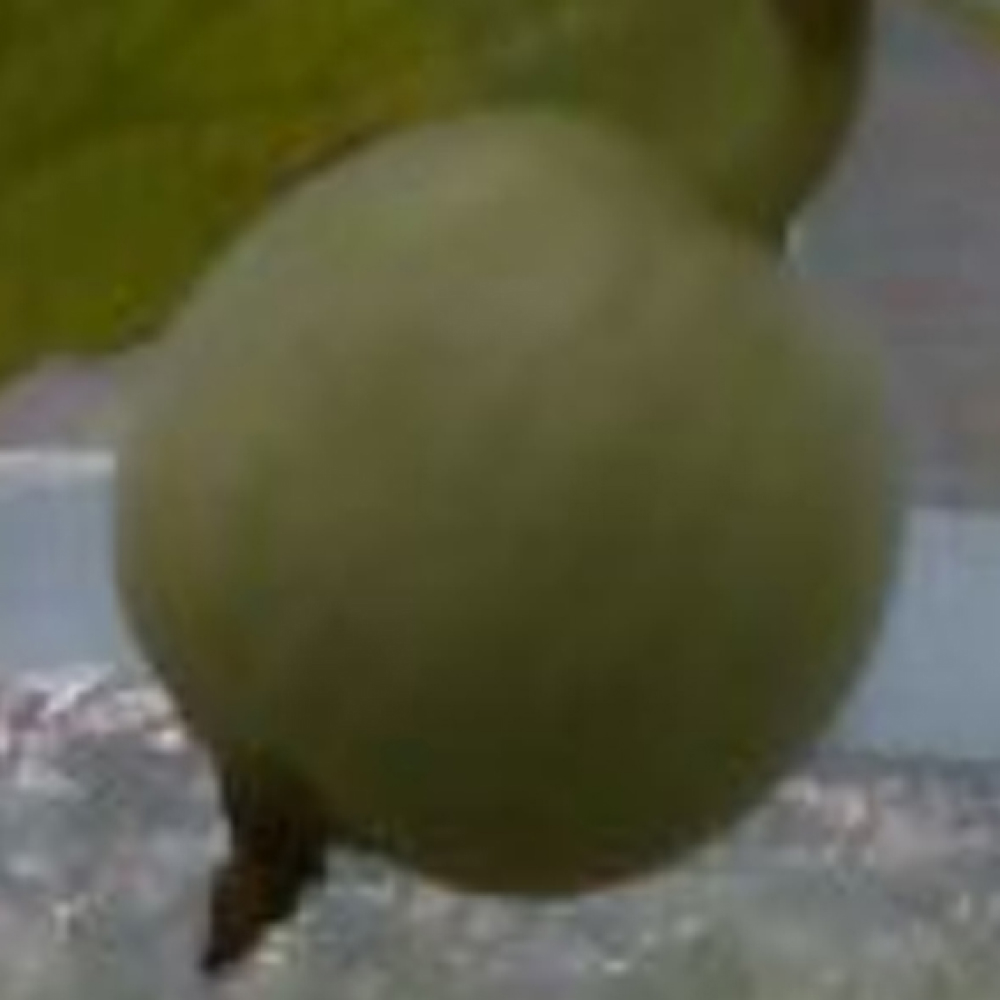melon: (111, 102, 911, 907)
